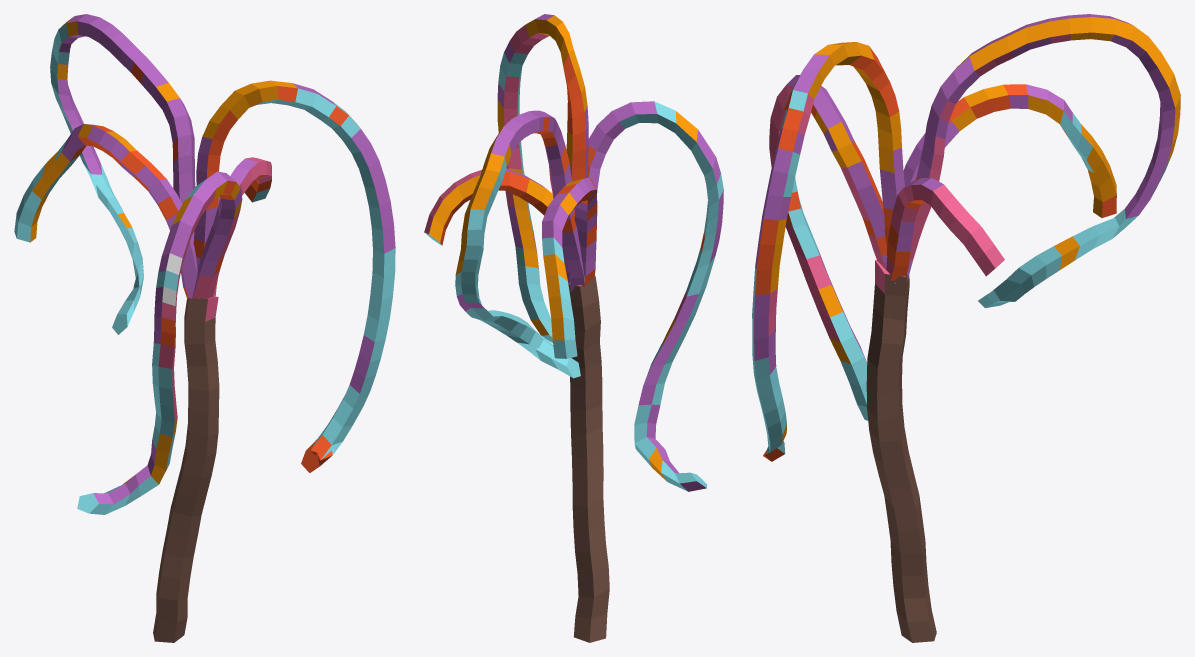
The picture shows the model from 3 angles, left to right: view 1: azimuth 30°, elevation 25°; view 2: azimuth 150°, elevation 25°; view 3: azimuth 270°, elevation 25°; orthographic projection. The views are drawn at different scales.
Parts seen in each view (by area): view 1: group_412060410, group_1498774236, group_2066926425, group_1204210808, group_957645483, group_911098375; view 2: group_2066926425, group_1498774236, group_1204210808, group_412060410, group_957645483, group_911098375; view 3: group_1204210808, group_412060410, group_2066926425, group_1498774236, group_957645483, group_911098375.
Part boxes in pixels (x1,y1,x2,y2): group_412060410: (193, 80, 395, 472); group_1498774236: (77, 171, 242, 514); group_2066926425: (153, 296, 219, 642); group_1204210808: (50, 14, 195, 334); group_957645483: (14, 124, 197, 298); group_911098375: (210, 157, 271, 297); group_2066926425: (568, 275, 609, 642); group_1498774236: (588, 101, 723, 491); group_1204210808: (455, 110, 584, 378); group_412060410: (497, 14, 588, 343); group_957645483: (542, 177, 597, 358); group_911098375: (424, 168, 569, 283); group_1204210808: (894, 14, 1180, 308); group_412060410: (752, 42, 904, 461); group_2066926425: (866, 260, 936, 642); group_1498774236: (769, 75, 887, 420); group_957645483: (903, 84, 1116, 217); group_911098375: (886, 178, 1004, 280).
Size of the model in its own units: 151 by 313 by 193.
